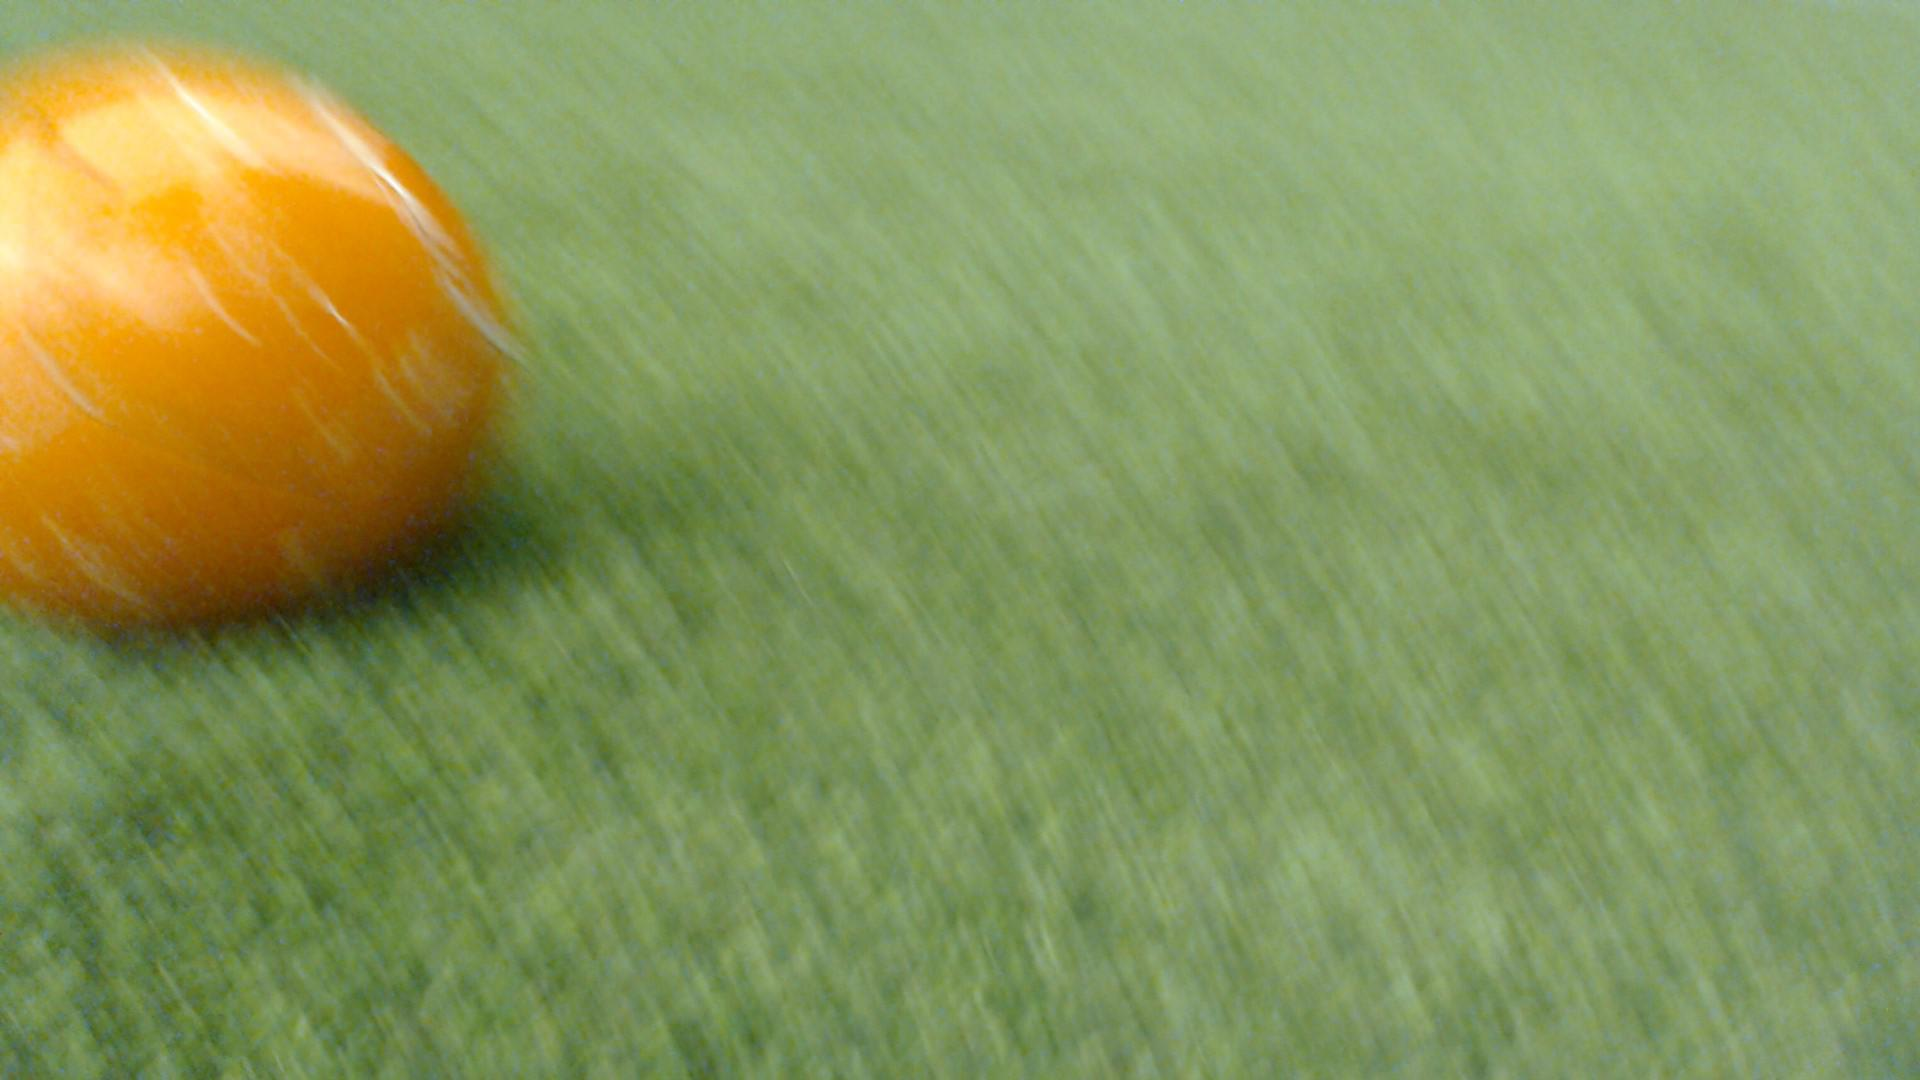bola: (0, 32, 539, 676)
